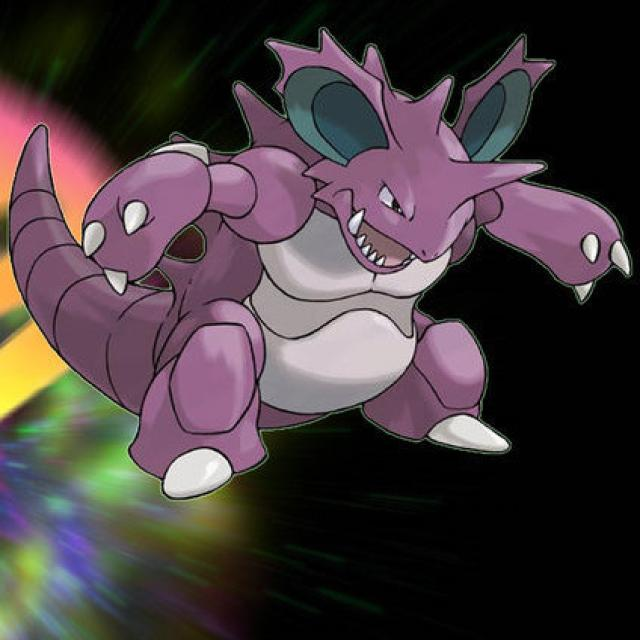Nidoking: (84, 40, 605, 478)
